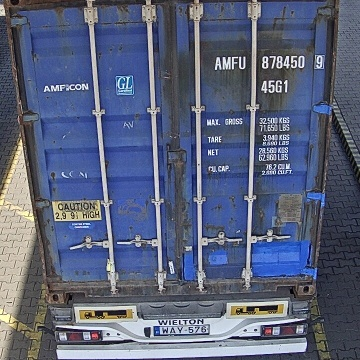serial_id: (214, 55, 324, 69)
